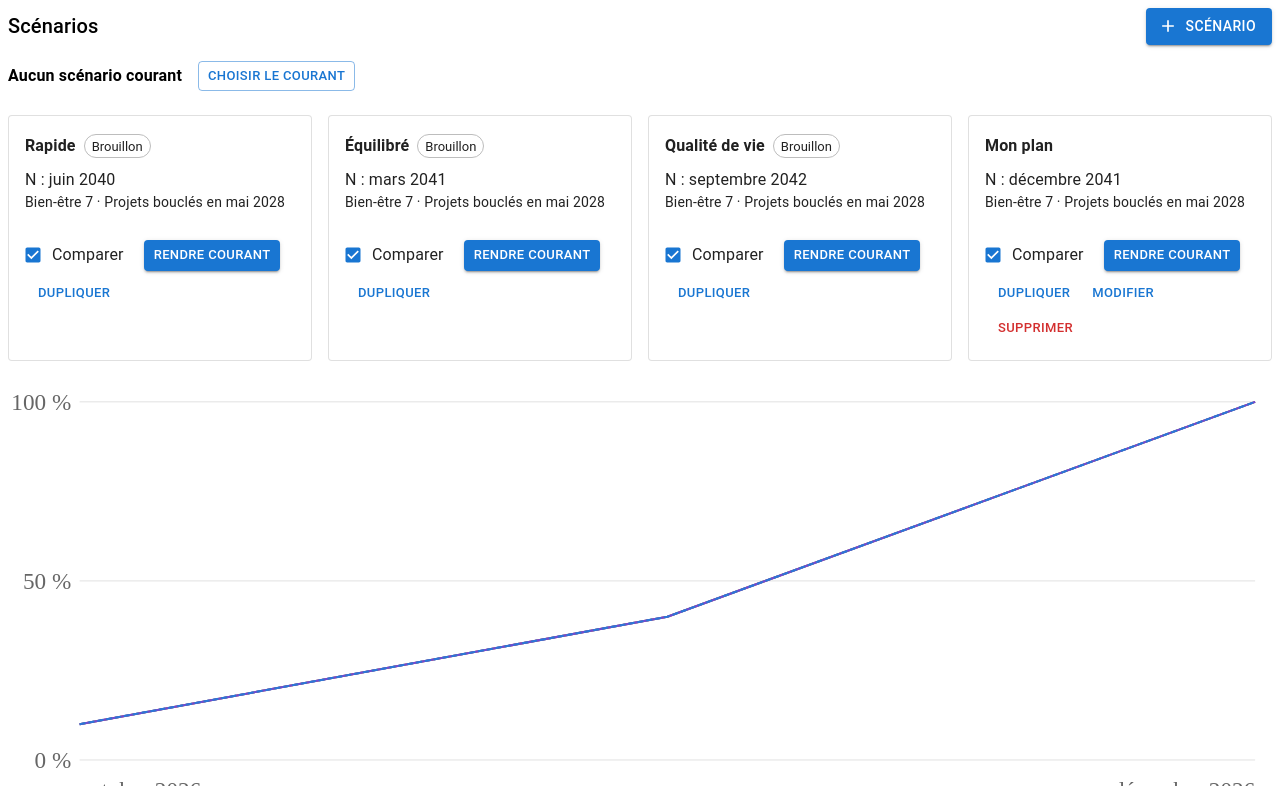
Scenario: ScenariosPanel › deletes a scenario of the user after a confirmation, and keeps it when the confirmation is cancelled
The image size is (1280, 786).
Step 1. Click the button "Supprimer" → [1036, 328], box x1=993 y1=313 x2=1078 y2=344
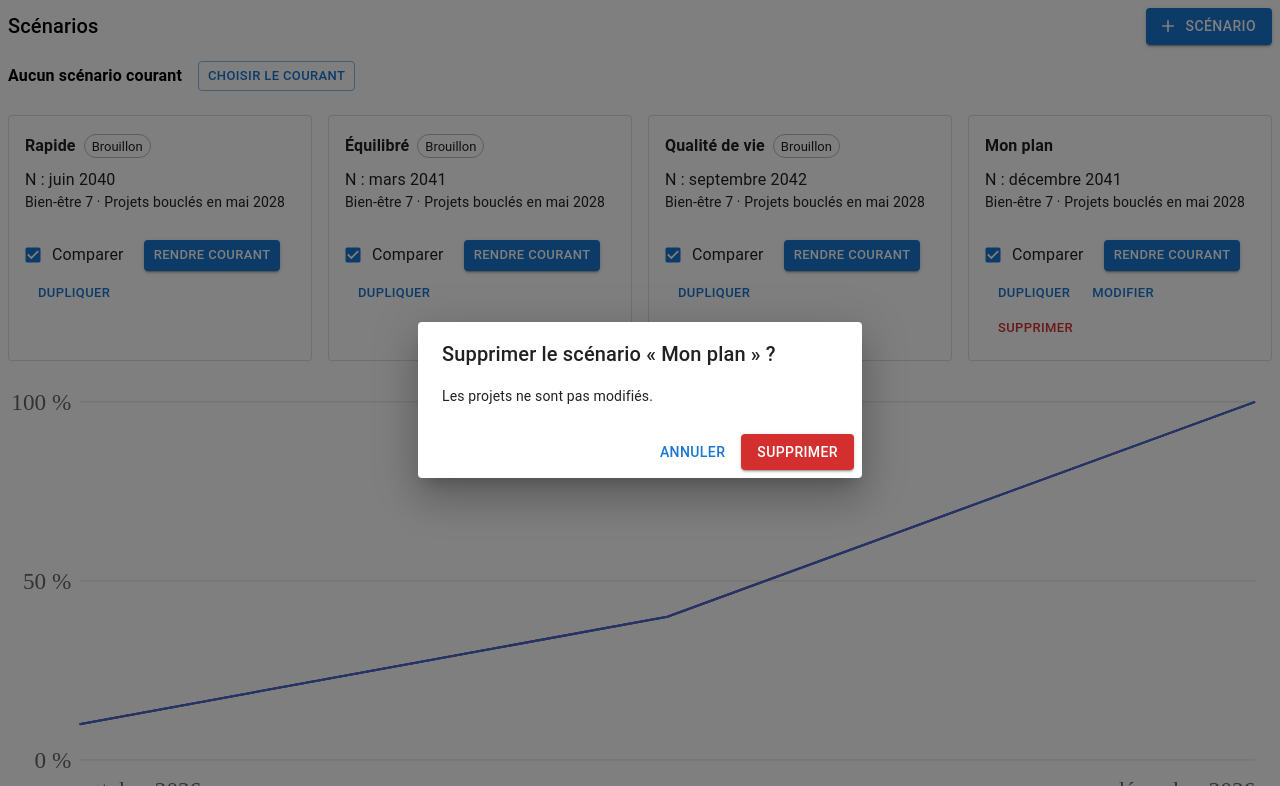
Expected: the dialog shows "Supprimer le scénario « Mon plan » ?", x1=418 y1=322 x2=862 y2=478
Step 2. Click the button "Annuler" → [693, 452], box x1=652 y1=434 x2=733 y2=470
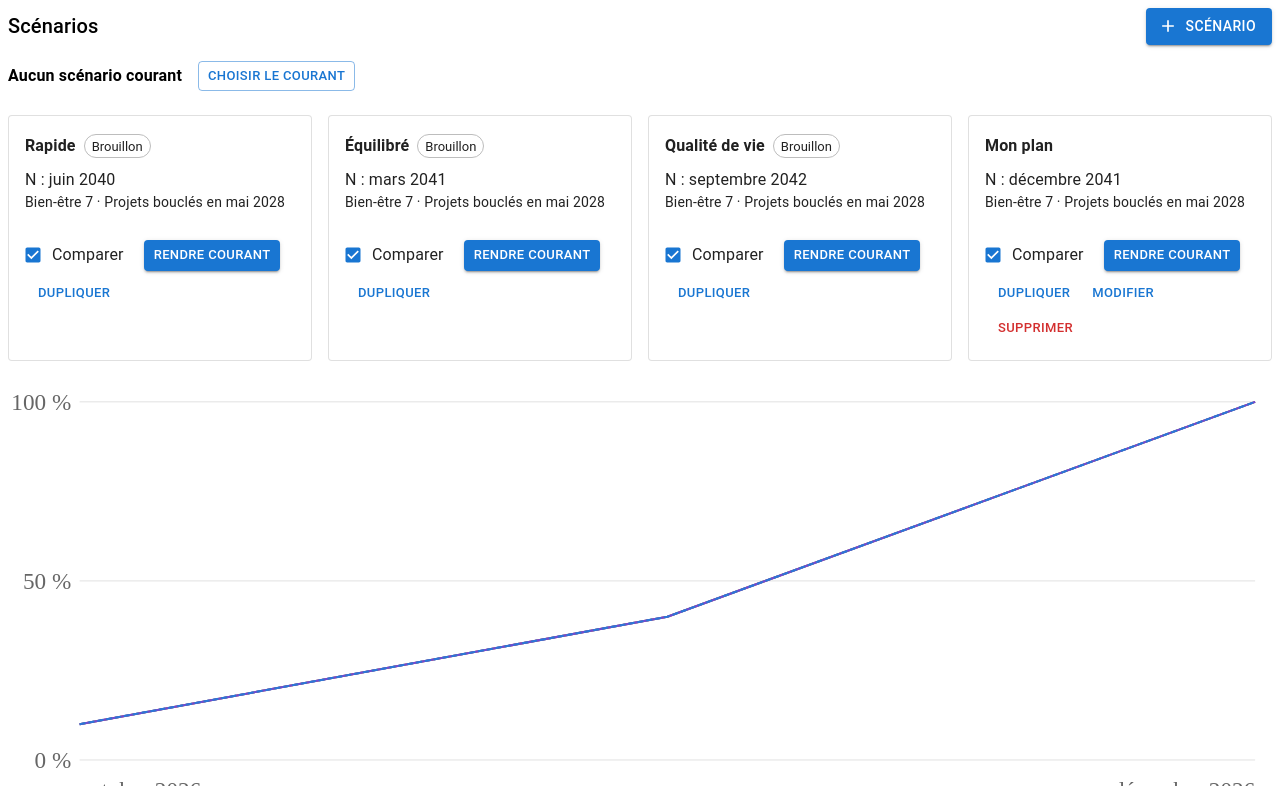
Expected: the heading "Mon plan" is shown, x1=985 y1=132 x2=1053 y2=160
Expected: the dialog is gone
Step 3. Click the button "Supprimer" → [1036, 328], box x1=993 y1=313 x2=1078 y2=344
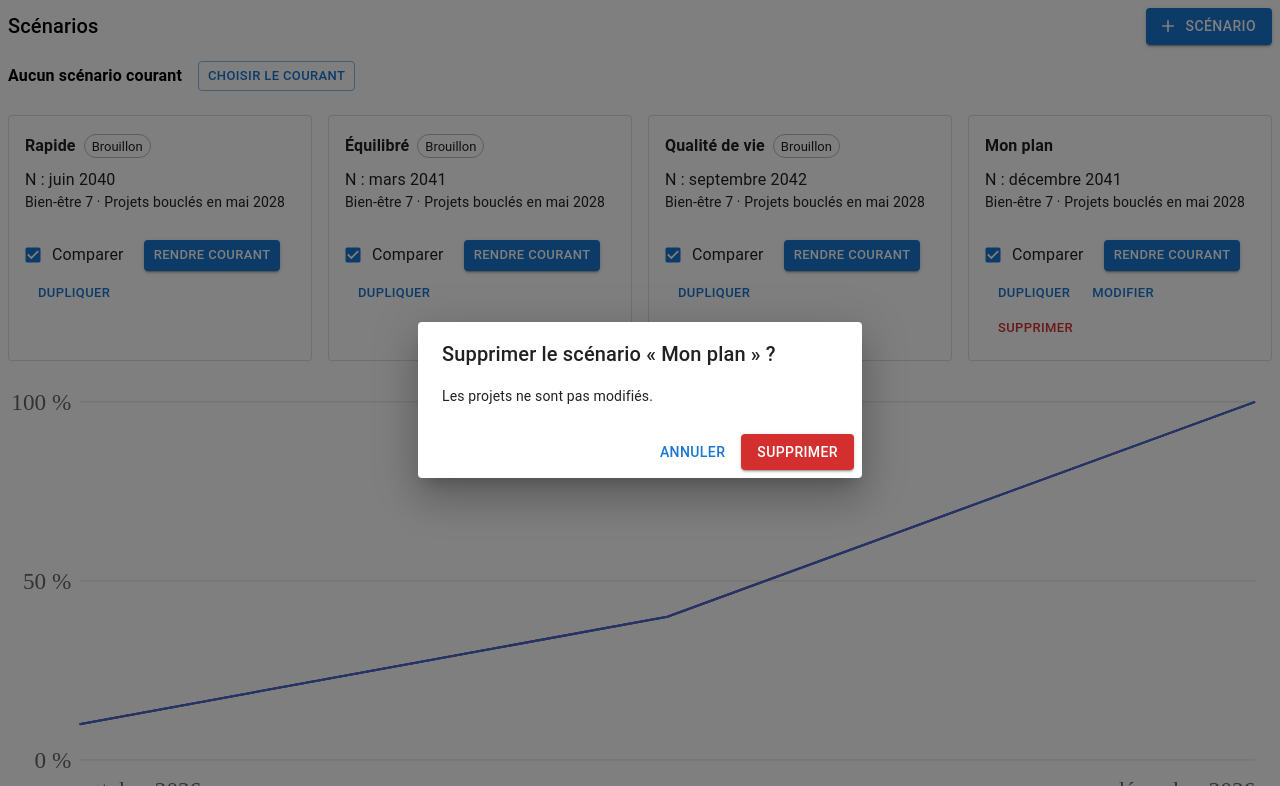
Step 4. Click the button "Supprimer" → [798, 452], box x1=741 y1=434 x2=854 y2=470
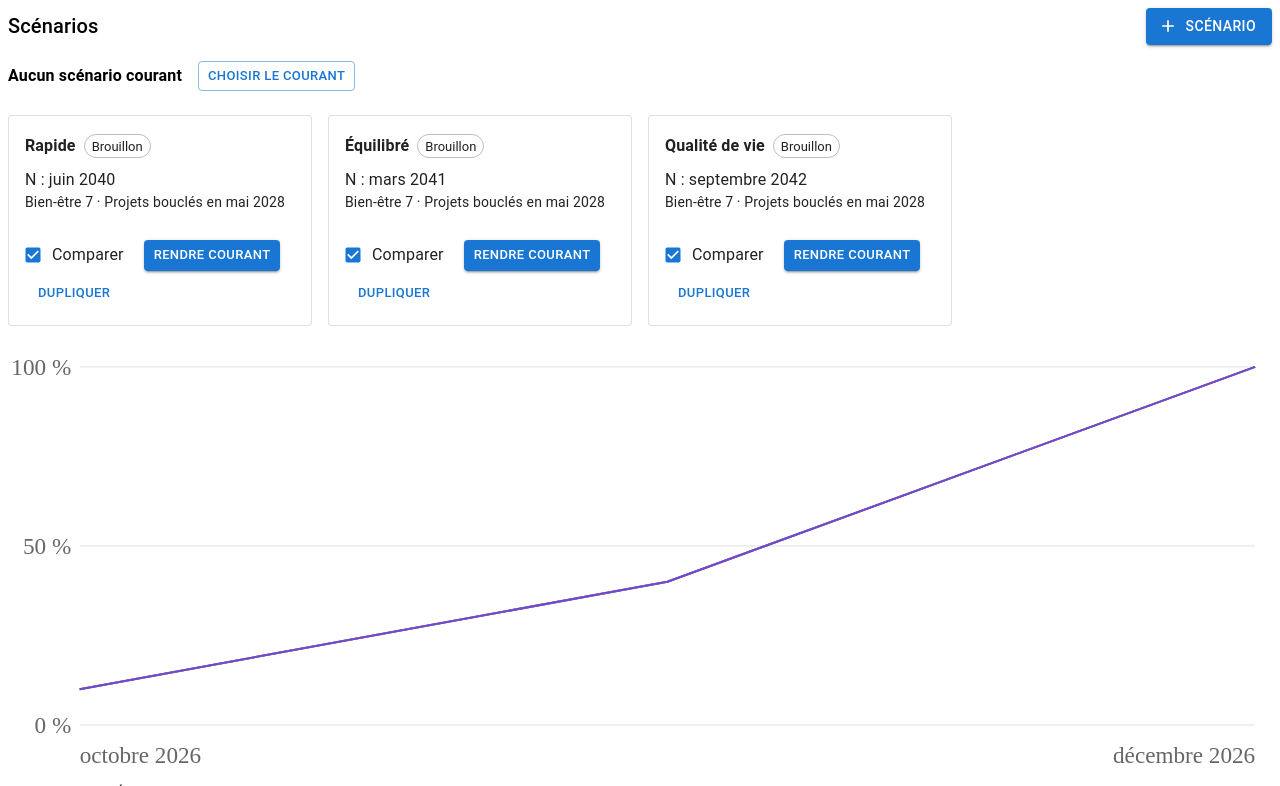
Expected: the heading "Mon plan" no longer shows "Mon plan"
